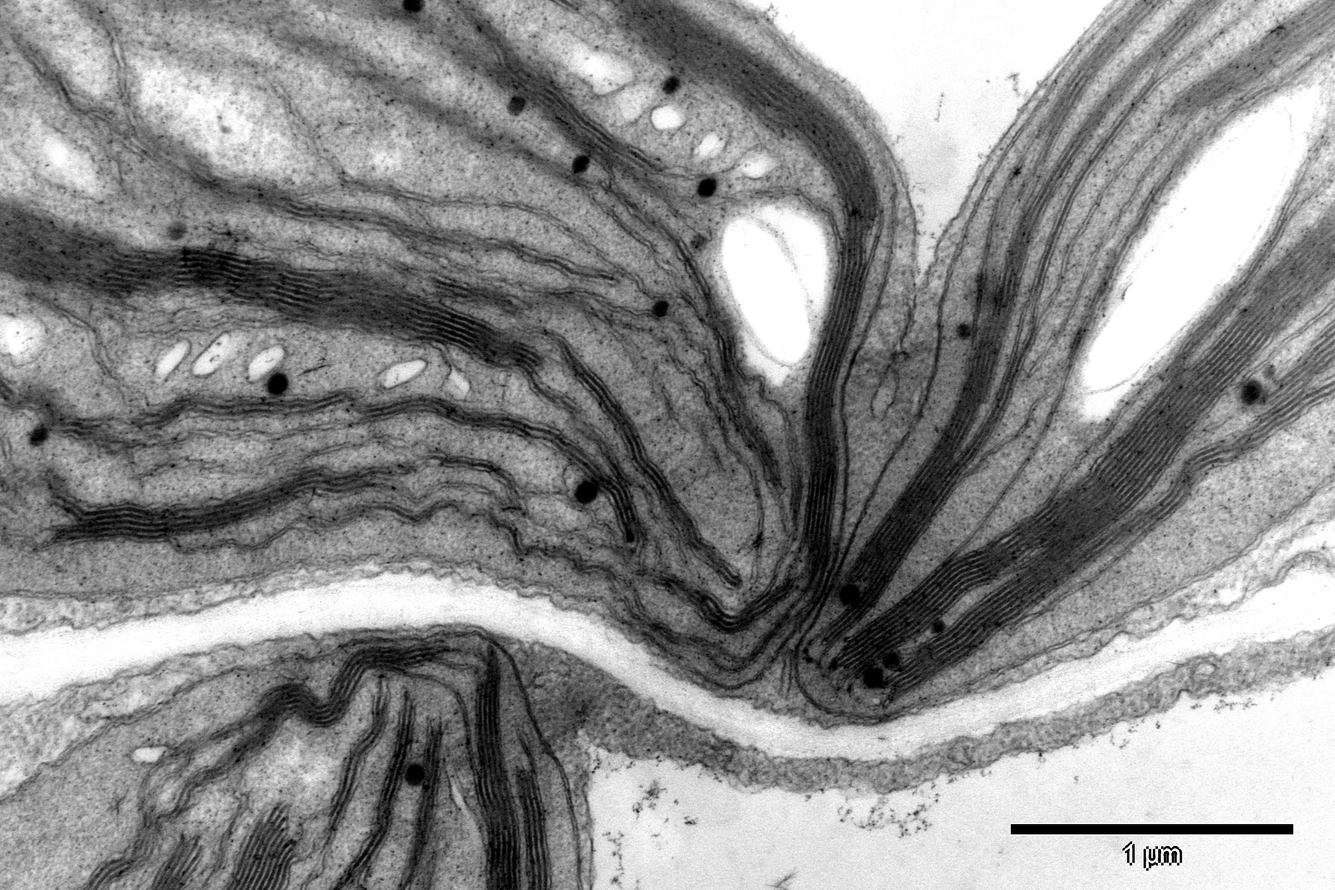granum: (1052, 193, 1335, 542), (597, 0, 886, 265), (548, 342, 742, 595), (357, 390, 651, 544), (1146, 317, 1335, 529), (932, 175, 1062, 457), (1043, 1, 1231, 188), (42, 459, 418, 551), (0, 366, 359, 462), (832, 518, 1037, 684), (271, 258, 548, 379), (819, 443, 972, 656), (1146, 0, 1334, 148), (483, 49, 671, 189), (798, 261, 872, 572), (191, 155, 428, 251), (882, 572, 1049, 702), (1031, 0, 1172, 147), (238, 635, 446, 730), (0, 186, 140, 315), (339, 705, 419, 888), (469, 661, 524, 890), (636, 563, 801, 637), (166, 724, 283, 814), (133, 242, 285, 311), (1015, 496, 1110, 600), (322, 689, 393, 821), (77, 802, 174, 889), (957, 348, 1027, 468), (219, 798, 305, 890), (429, 266, 537, 327), (1174, 276, 1255, 357), (724, 405, 787, 488), (513, 770, 554, 890), (408, 729, 446, 846), (1095, 506, 1162, 563), (147, 834, 208, 889), (115, 127, 178, 178), (703, 303, 742, 365), (549, 0, 588, 14)
